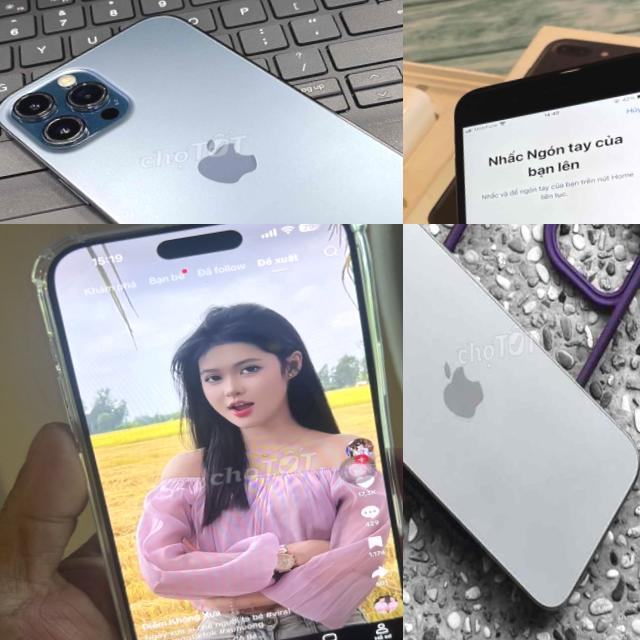gen_12_13: (0, 0, 403, 224)
gen_15: (20, 224, 403, 640), (403, 224, 640, 640)
gen_7_8: (407, 45, 640, 224)
